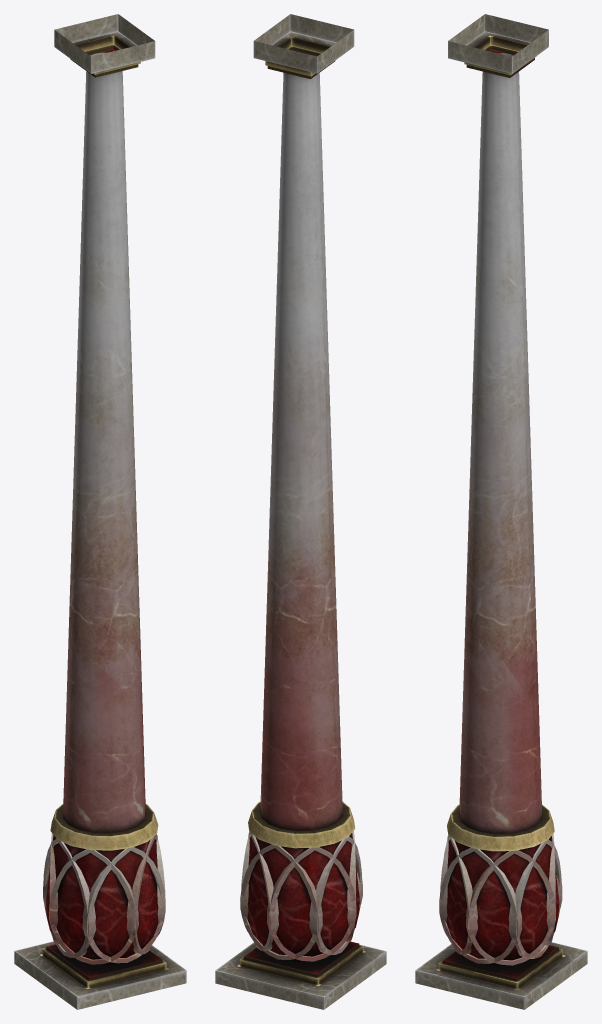
File: pillar.FBX
The picture shows the model from 3 angles, left to right: view 1: azimuth 30°, elevation 25°; view 2: azimuth 150°, elevation 25°; view 3: azimuth 330°, elevation 25°; orthographic projection.
Visible parts, largest first — view 1: pillar; view 2: pillar; view 3: pillar.
Part boxes in pixels (x1,y1,x2,y2): pillar: (14, 14, 186, 1009); pillar: (215, 14, 386, 1009); pillar: (415, 14, 587, 1009).
Bounding box in the file's own units: 95.72 × 97.71 × 773.
